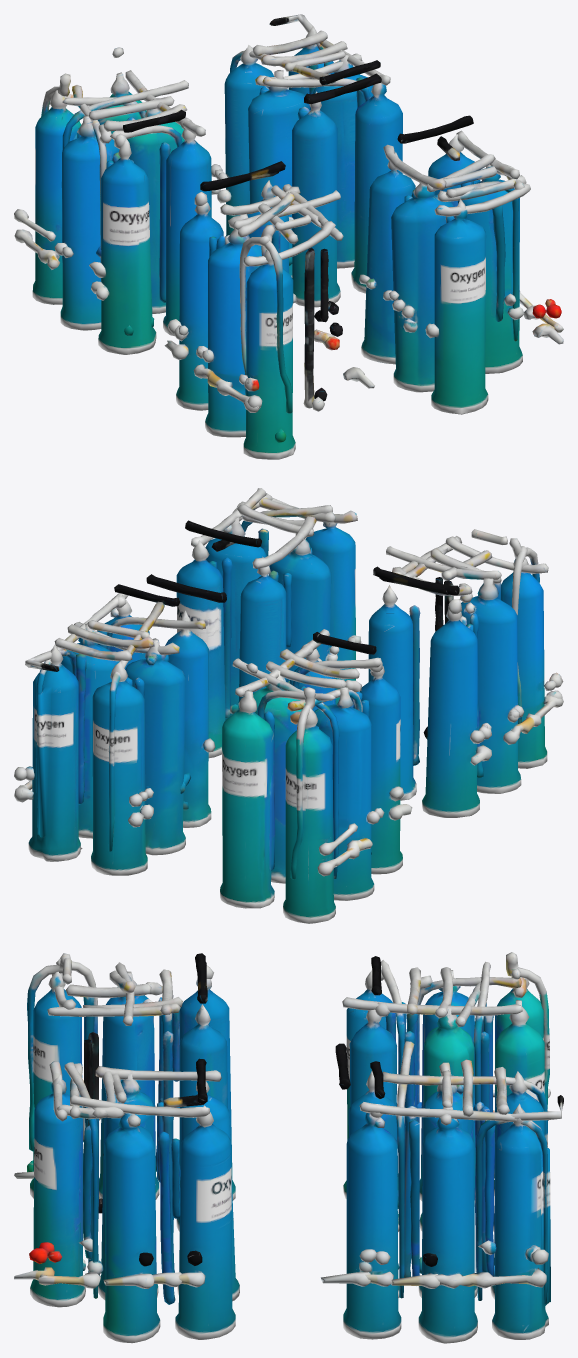
The model's file is tanques.fbx.
3 views of the same model, one above another, from view 1: azimuth 30°, elevation 25°; view 2: azimuth 150°, elevation 25°; view 3: azimuth 270°, elevation 25° (orthographic). The views are drawn at different scales.
Visible parts, largest first — view 1: Mesh_0; view 2: Mesh_0; view 3: Mesh_0.
Boxes of the visible parts, x1,y1,x2,y2 form: Mesh_0: [14, 14, 563, 459]; Mesh_0: [14, 488, 563, 923]; Mesh_0: [14, 952, 563, 1343].
Size of the model in its own units: 150 by 103 by 200.
Materials: 1 (1 with a texture image).
